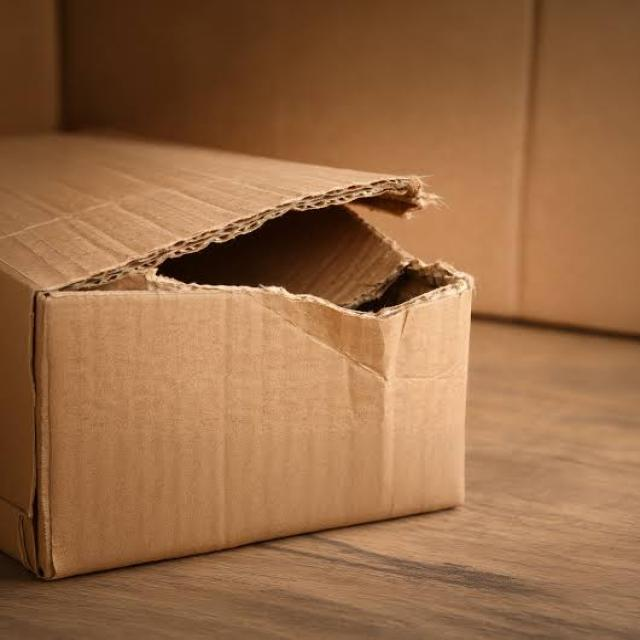package_damage: (24, 145, 499, 348)
